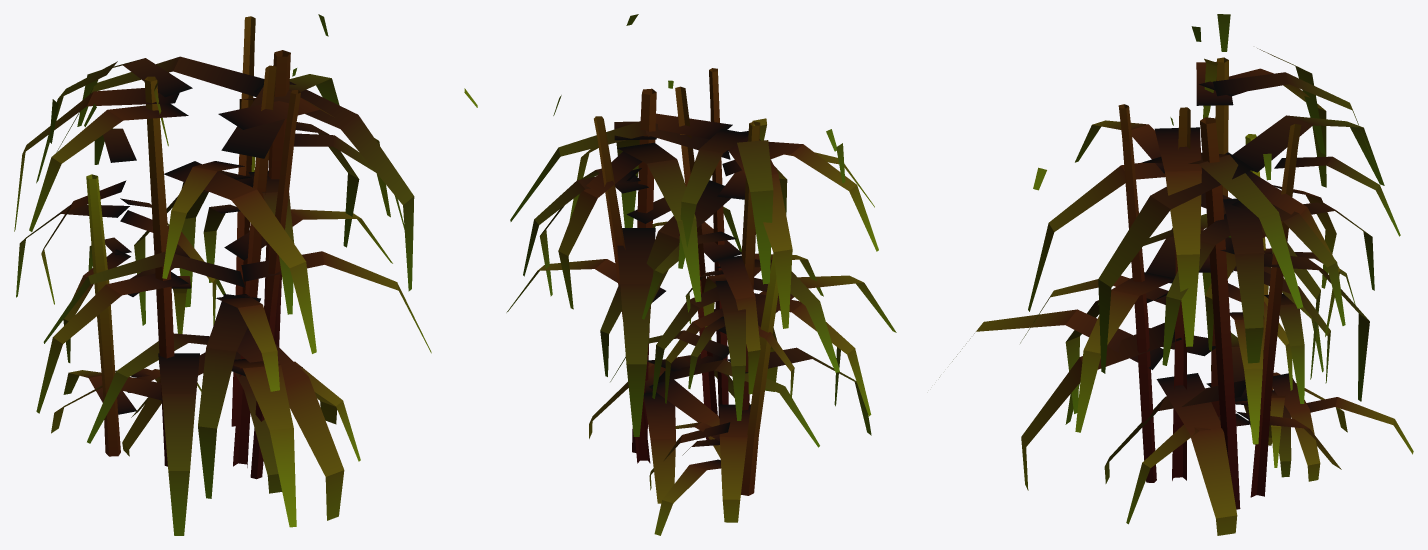
File: bamboo_a_mid.glb
3 views of the same model, side by side, from view 1: azimuth 30°, elevation 25°; view 2: azimuth 150°, elevation 25°; view 3: azimuth 270°, elevation 25° (orthographic). The views are drawn at different scales.
Visible parts, largest first — view 1: bamboo_a_mid; view 2: bamboo_a_mid; view 3: bamboo_a_mid.
Part boxes in pixels (<box>): bamboo_a_mid: <box>14,14,477,535</box>; bamboo_a_mid: <box>506,14,896,535</box>; bamboo_a_mid: <box>939,14,1413,535</box>.
Bounding box in the file's own units: 1.67 × 1.61 × 1.84.
Materials: 1 (1 with a texture image).
